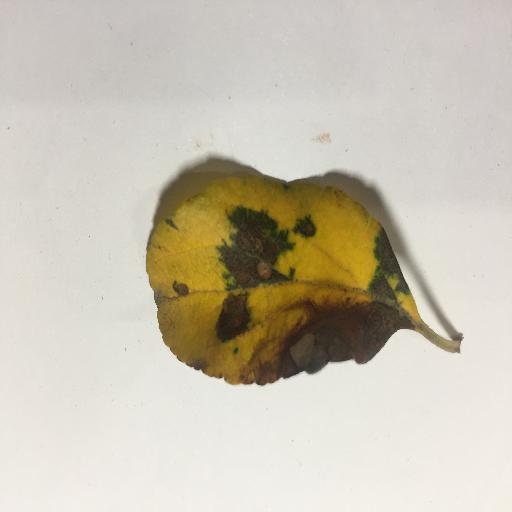Brown_Spot: (276, 316, 398, 368), (217, 229, 276, 283), (216, 298, 251, 336), (168, 280, 200, 299), (289, 221, 316, 232)
